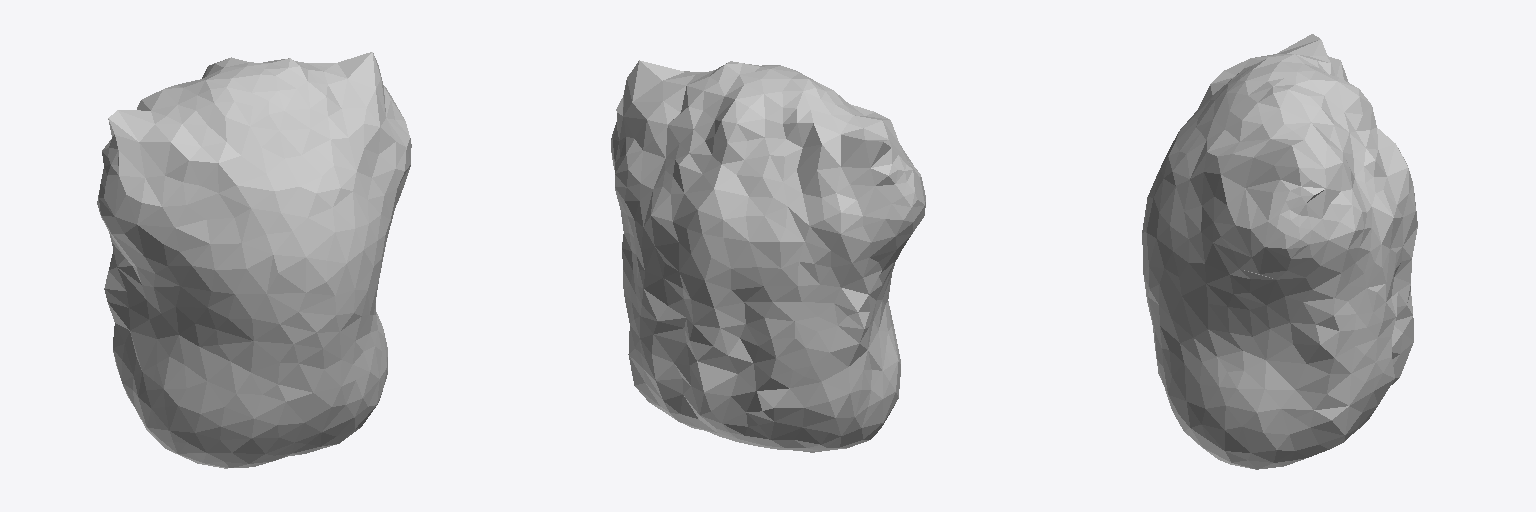
File: PlayerBody.obj
3 views of the same model, side by side, from view 1: azimuth 30°, elevation 25°; view 2: azimuth 150°, elevation 25°; view 3: azimuth 270°, elevation 25° (orthographic).
Visible parts, largest first — view 1: Sphere; view 2: Sphere; view 3: Sphere.
Part boxes in pixels (left/top/right/bottom): Sphere: left=97, top=52, right=411, bottom=468; Sphere: left=611, top=60, right=925, bottom=452; Sphere: left=1142, top=34, right=1417, bottom=469.
Bounding box in the file's own units: 3.35 × 3.94 × 2.66.